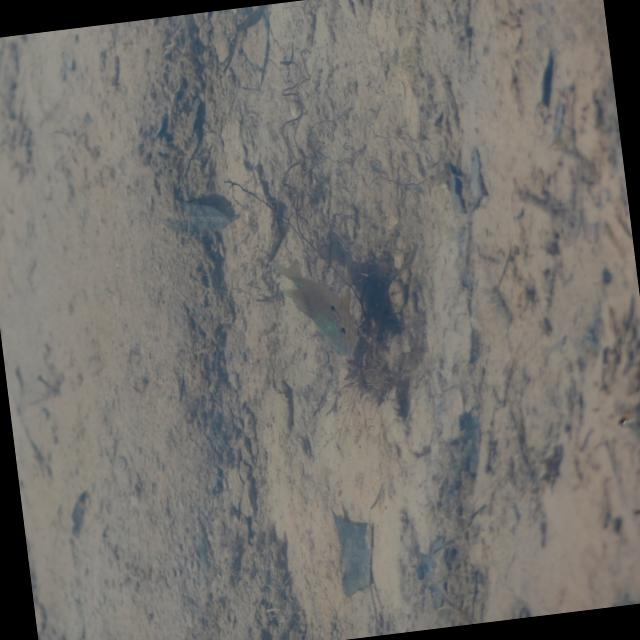Gunes Levregi: (264, 250, 362, 370)
